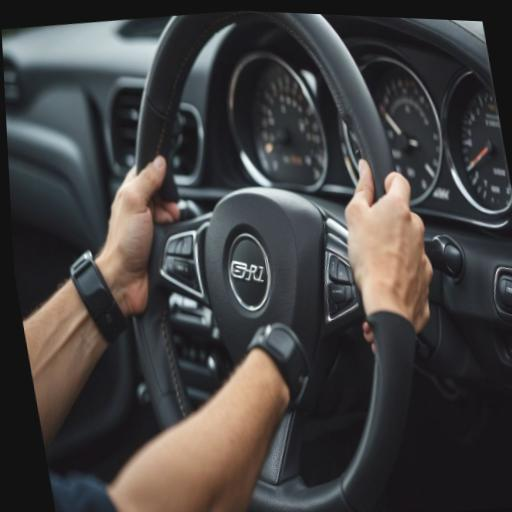Hands-on-the-Wheel: (41, 123, 220, 357), (300, 128, 470, 353)
